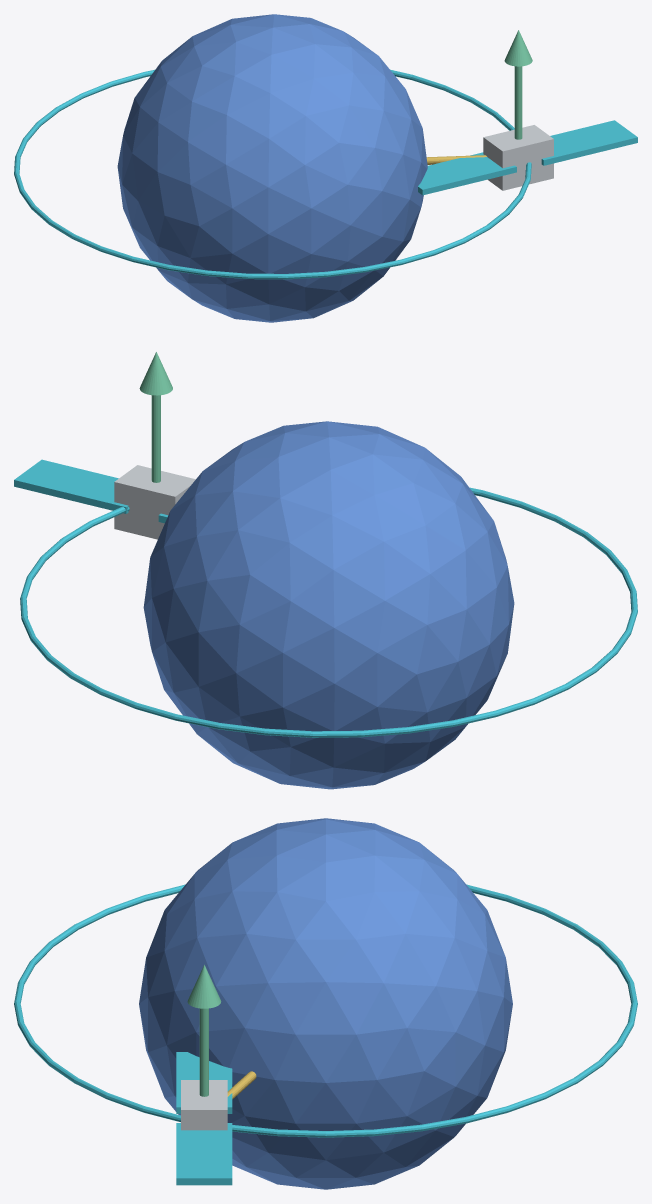
The model's file is satellite-orbit.glb.
3 renders of one model, top to bottom at view 1: azimuth 30°, elevation 25°; view 2: azimuth 150°, elevation 25°; view 3: azimuth 270°, elevation 25°, orthographic. The views are drawn at different scales.
Parts seen in each view (by area): view 1: earth, orbit_path, satellite_body, solar_panel_right, solar_panel_left, velocity_vector_shaft, velocity_vector_head; view 2: earth, orbit_path, satellite_body, solar_panel_right, velocity_vector_shaft, velocity_vector_head; view 3: earth, orbit_path, solar_panel_right, satellite_body, solar_panel_left, velocity_vector_shaft, velocity_vector_head.
Part boxes in pixels (bbox=[...]): earth: bbox=[117, 14, 427, 322]; orbit_path: bbox=[14, 69, 531, 279]; satellite_body: bbox=[483, 125, 553, 190]; solar_panel_right: bbox=[541, 120, 637, 165]; solar_panel_left: bbox=[418, 152, 516, 195]; velocity_vector_shaft: bbox=[514, 66, 522, 139]; velocity_vector_head: bbox=[504, 30, 532, 66]; earth: bbox=[143, 421, 514, 789]; orbit_path: bbox=[20, 487, 637, 737]; satellite_body: bbox=[114, 465, 195, 539]; solar_panel_right: bbox=[14, 459, 128, 513]; velocity_vector_shaft: bbox=[151, 395, 160, 482]; velocity_vector_head: bbox=[139, 352, 172, 395]; earth: bbox=[139, 818, 512, 1189]; orbit_path: bbox=[14, 884, 637, 1137]; solar_panel_right: bbox=[176, 1123, 232, 1185]; satellite_body: bbox=[181, 1080, 227, 1130]; solar_panel_left: bbox=[176, 1052, 232, 1113]; velocity_vector_shaft: bbox=[199, 1008, 208, 1096]; velocity_vector_head: bbox=[187, 965, 221, 1008].
Size of the model in its own units: 3.92 by 2 by 3.34.
